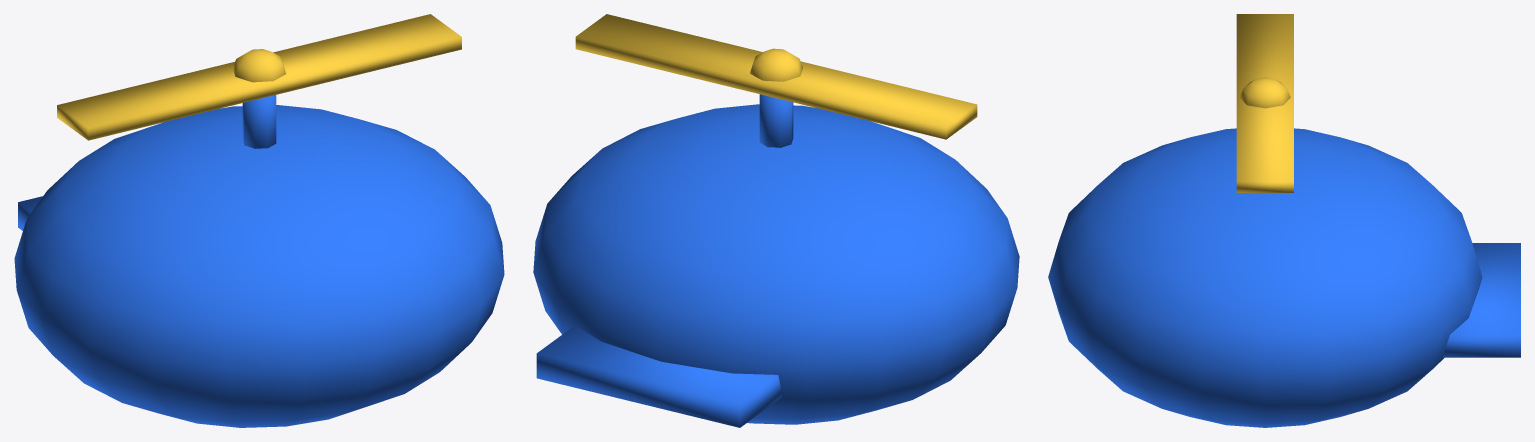
File: acc_propeller.glb
3 views of the same model, side by side, from view 1: azimuth 30°, elevation 25°; view 2: azimuth 150°, elevation 25°; view 3: azimuth 270°, elevation 25° (orthographic). The views are drawn at different scales.
Parts seen in each view (by area): view 1: PropCap, Propeller; view 2: PropCap, Propeller; view 3: PropCap, Propeller.
Boxes of the visible parts, x1,y1,x2,y2 form: PropCap: (14,95,504,427); Propeller: (57,14,461,140); PropCap: (533,94,1019,427); Propeller: (575,14,977,139); PropCap: (1048,128,1520,427); Propeller: (1236,14,1293,192).
Size of the model in its own units: 0.72 by 0.54 by 0.74.
